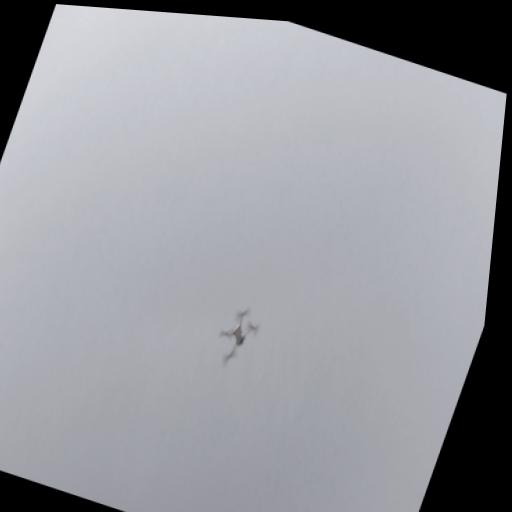drones: (206, 299, 265, 376)
